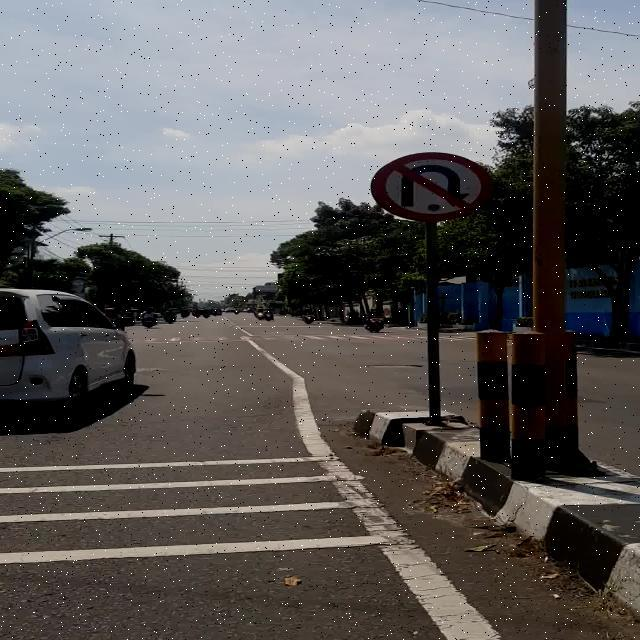Dilarang Putar Balik: (368, 152, 494, 222)
